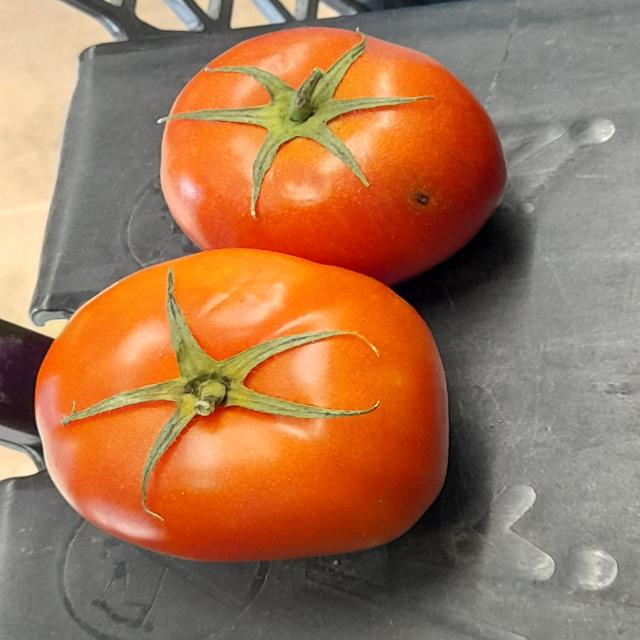tomato: (24, 256, 465, 571), (149, 22, 512, 276)
